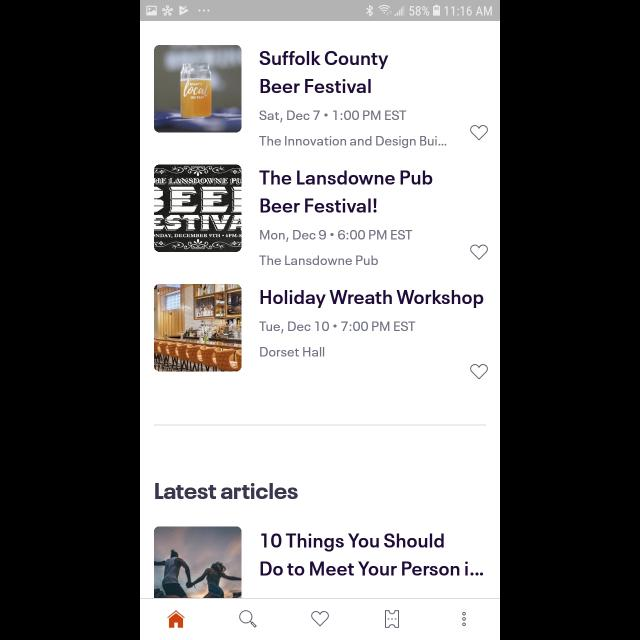icon: (168, 610, 185, 628), (240, 610, 256, 628), (311, 610, 329, 626), (470, 364, 488, 380), (470, 244, 488, 260), (470, 125, 488, 141), (385, 610, 399, 628), (462, 612, 466, 626)
image: (154, 284, 242, 372), (154, 164, 242, 252), (154, 45, 242, 133), (154, 526, 242, 598)
text: (261, 532, 483, 576), (260, 170, 432, 213), (260, 51, 388, 94), (261, 290, 484, 308), (156, 482, 298, 500), (259, 136, 446, 148), (260, 322, 416, 334), (260, 230, 412, 242), (259, 110, 406, 122), (259, 256, 379, 266), (260, 347, 324, 357)
uppertaskbar: (140, 1, 500, 22)
